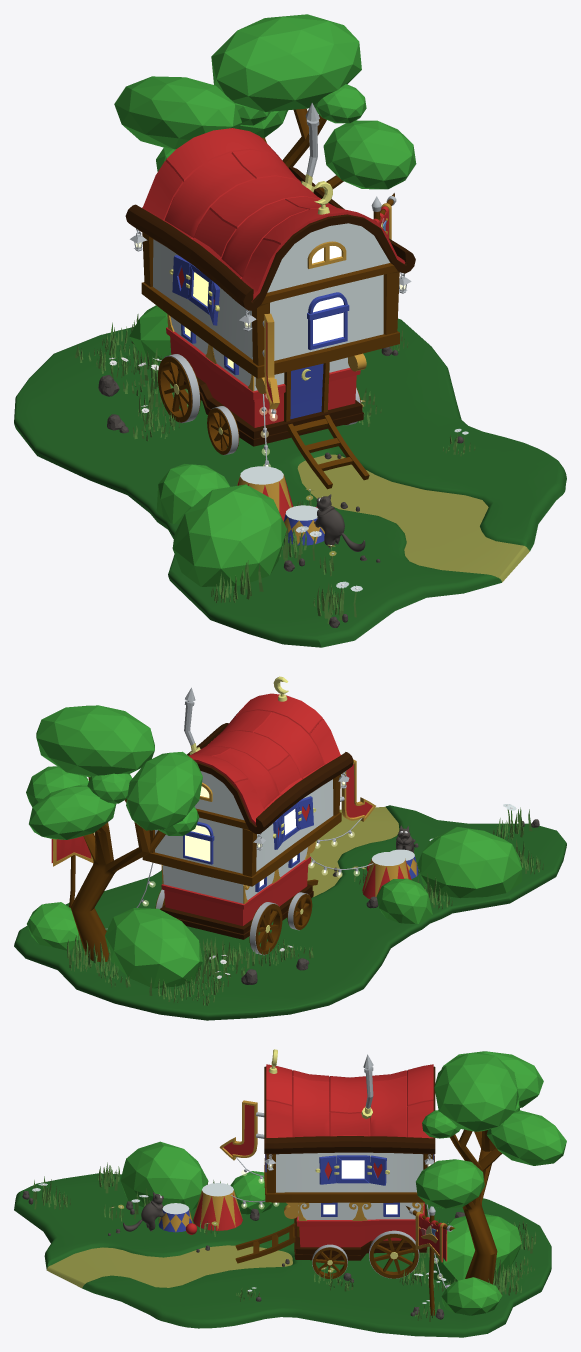
The picture shows the model from 3 angles, top to bottom: view 1: azimuth 30°, elevation 25°; view 2: azimuth 150°, elevation 25°; view 3: azimuth 270°, elevation 25°; orthographic projection. The views are drawn at different scales.
Visible parts, largest first — view 1: object 1, object 3, object 32, object 28, Icosphere.001_35, Circle.005_3, object 31, object 41, object 40, Cube_5, Cube.011_16, Cube.001_6 (+10 smaller); view 2: object 1, object 3, object 32, object 28, object 33, Icosphere.001_35, object 29, object 31, Circle.005_3, object 41, Circle_33, Cube.001_6 (+6 smaller); view 3: object 1, object 3, object 32, object 28, object 33, Icosphere.001_35, object 29, Circle.005_3, Cube.009_14, Circle_33, Cylinder.002_0, object 30 (+11 smaller).
Part boxes in pixels (<box>): object 1: <box>14,318,566,647</box>; object 3: <box>125,166,415,446</box>; object 32: <box>114,14,416,189</box>; object 28: <box>142,128,405,300</box>; Icosphere.001_35: <box>172,484,286,586</box>; Circle.005_3: <box>158,354,361,455</box>; object 31: <box>75,314,188,441</box>; object 41: <box>156,464,230,524</box>; object 40: <box>211,544,380,627</box>; Cube_5: <box>287,414,369,489</box>; Cube.011_16: <box>307,292,349,350</box>; Cube.001_6: <box>169,255,219,325</box>; object 1: <box>14,805,566,1020</box>; object 3: <box>142,723,353,939</box>; object 32: <box>26,705,202,839</box>; object 28: <box>188,693,340,826</box>; object 33: <box>27,902,202,988</box>; Icosphere.001_35: <box>417,827,522,898</box>; object 29: <box>71,777,165,962</box>; object 31: <box>67,933,313,1005</box>; Circle.005_3: <box>155,889,312,955</box>; object 41: <box>376,878,432,923</box>; Circle_33: <box>362,852,411,898</box>; Cube.001_6: <box>273,796,316,849</box>; object 1: <box>14,1173,551,1337</box>; object 3: <box>264,1066,435,1260</box>; object 32: <box>416,1051,566,1208</box>; object 28: <box>266,1064,433,1138</box>; object 33: <box>433,1214,521,1315</box>; Icosphere.001_35: <box>120,1141,208,1210</box>; object 29: <box>450,1129,502,1284</box>; Circle.005_3: <box>312,1230,419,1278</box>; Cube.009_14: <box>315,1155,389,1185</box>; Circle_33: <box>193,1183,242,1230</box>; Cylinder.002_0: <box>406,1206,454,1315</box>; object 30: <box>236,1257,460,1321</box>.
Size of the model in its own units: 5.88 by 4.09 by 8.66.
